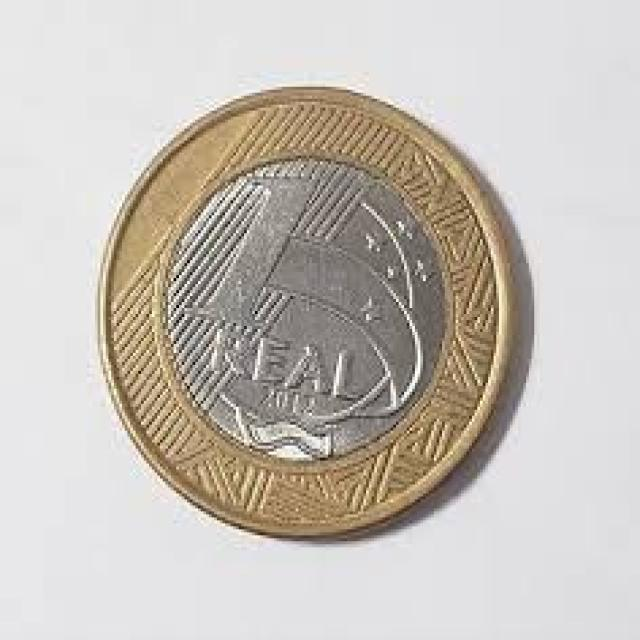1 real: (100, 85, 516, 540)
